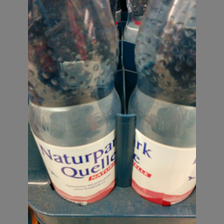water: (28, 1, 120, 206), (126, 1, 196, 206)
